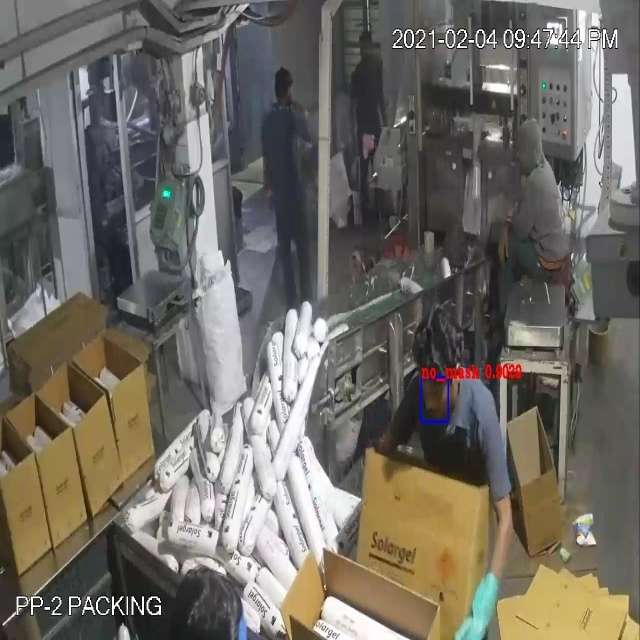Guantes: (439, 542, 503, 640)
Sin_guantes: (490, 213, 516, 272), (346, 92, 363, 166), (260, 142, 276, 220), (375, 83, 394, 135)
